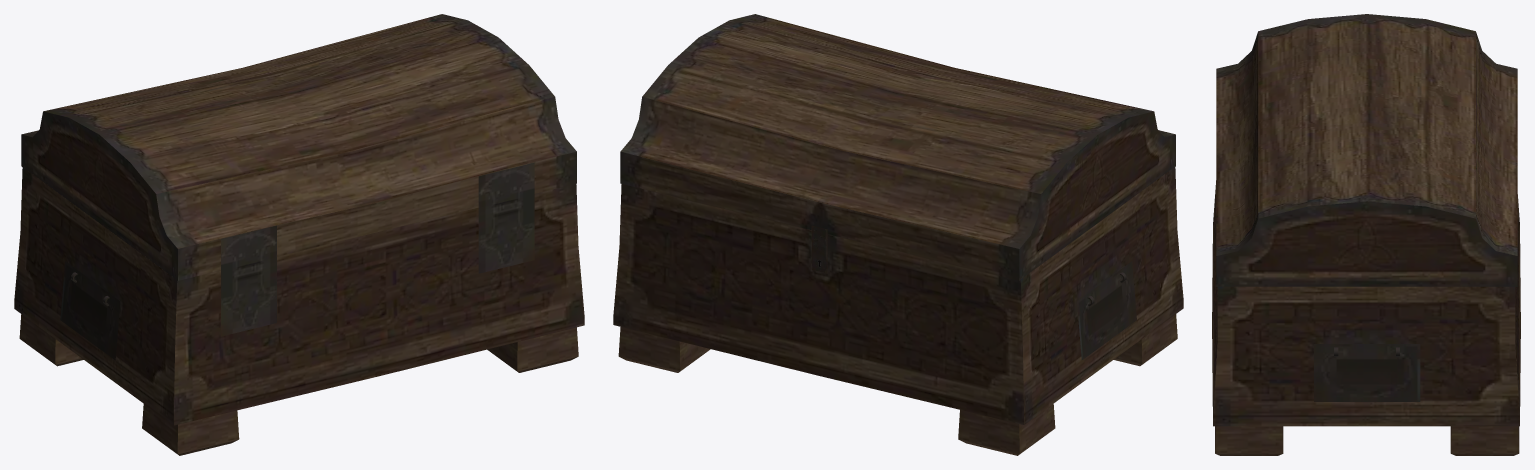
Rendered from eso_gu1_Chest1-transformed.glb.
The picture shows the model from 3 angles, left to right: view 1: azimuth 30°, elevation 25°; view 2: azimuth 150°, elevation 25°; view 3: azimuth 270°, elevation 25°; orthographic projection. The views are drawn at different scales.
Visible parts, largest first — view 1: default; view 2: default; view 3: default.
Part boxes in pixels (<box>): default: <box>14,14,584,455</box>; default: <box>613,14,1183,455</box>; default: <box>1212,14,1520,455</box>.
Bounding box in the file's own units: 1.18 × 0.7116 × 0.777.
1 material, 1 textured.
